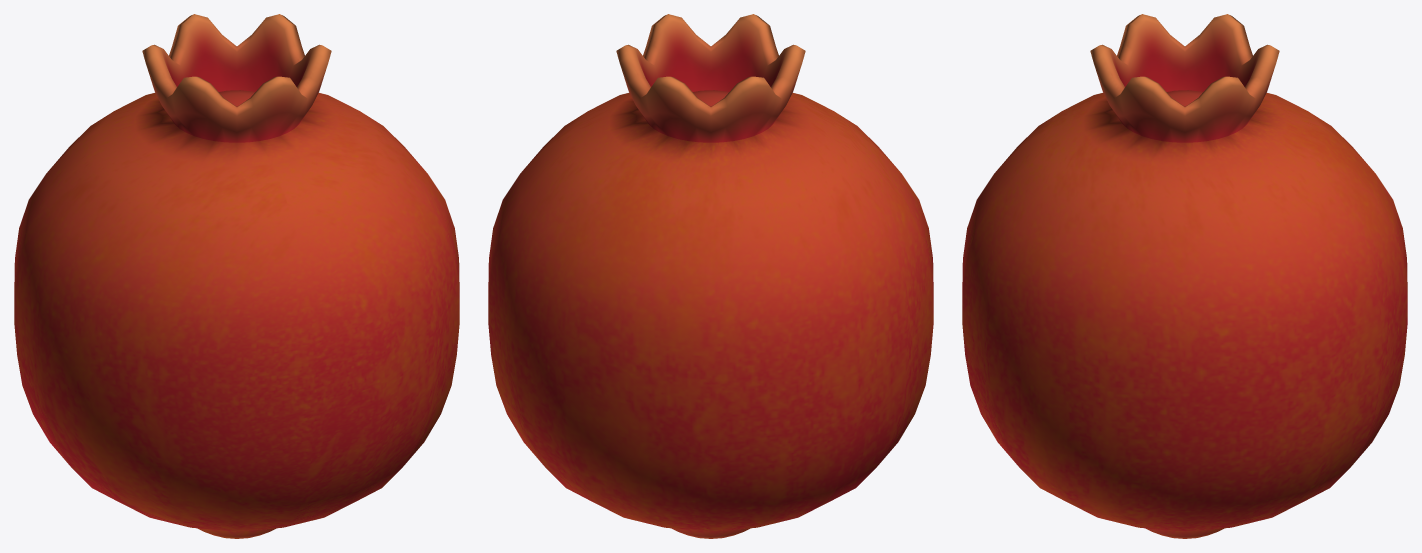
File: pomegranate_red.fbx
3 views of the same model, side by side, from view 1: azimuth 30°, elevation 25°; view 2: azimuth 150°, elevation 25°; view 3: azimuth 270°, elevation 25° (orthographic).
Visible parts, largest first — view 1: polySurface20.001; view 2: polySurface20.001; view 3: polySurface20.001.
Part boxes in pixels (x1=…): polySurface20.001: x1=14, y1=14, x2=459, y2=538; polySurface20.001: x1=488, y1=14, x2=933, y2=538; polySurface20.001: x1=962, y1=14, x2=1407, y2=538.
Size of the model in its own units: 0.7204 by 0.8498 by 0.7095.
